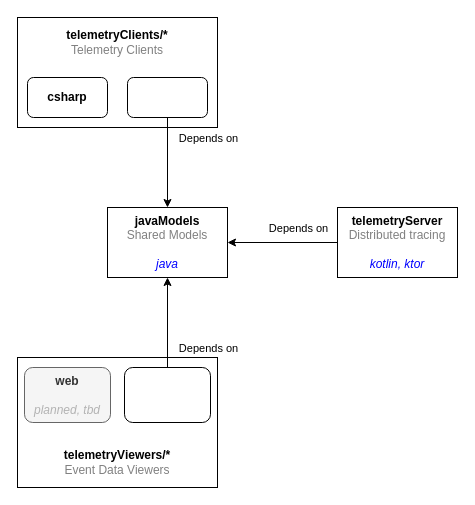
Image size: 475x505. Some labels were removed from this diagram. The shapes that lost their labels are listed below. From the top down, each one's centre as x and y in pixels, then its label:
[167,97]: java
[167,394]: desktop java, javafx
